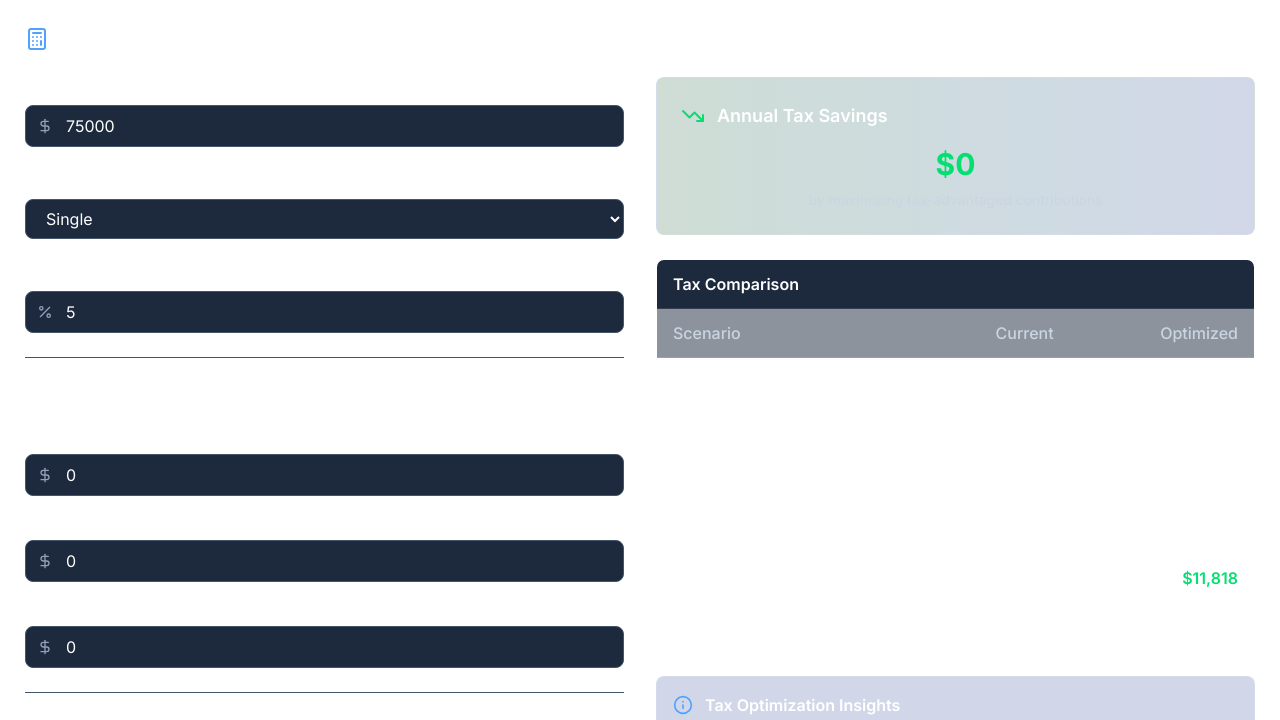
TaxSavingsCalculator › enforces contribution limits
This screenshot has width=1280, height=720.
// Try to exceed 401k limit - find the first input with value 0 (should be 401k)
Step 1. Type "25000" into the number field showing "0" below "401(k) Contribution (Max:" → (324, 475), box [25,454,624,496]
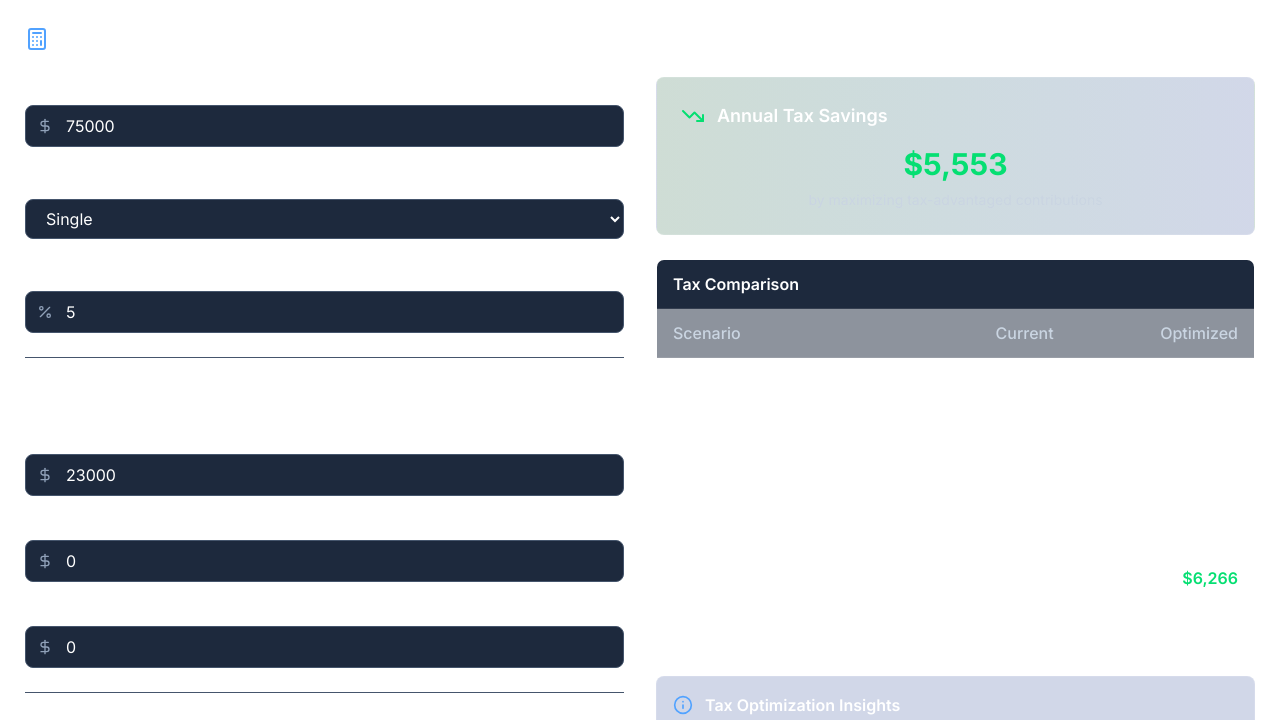
Expected: the number field showing "23000" below "401(k) Contribution (Max:" is shown, [25,454,624,496]
